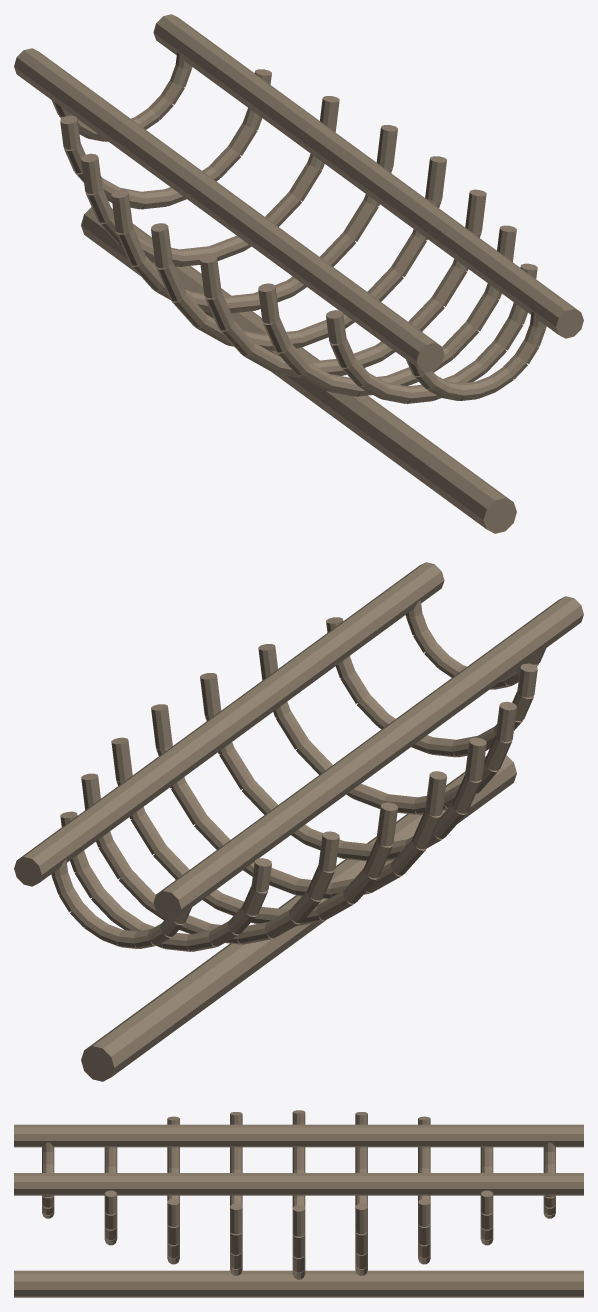
The model's file is a5_hero.glb.
The picture shows the model from 3 angles, top to bottom: view 1: azimuth 30°, elevation 25°; view 2: azimuth 150°, elevation 25°; view 3: azimuth 270°, elevation 25°; orthographic projection. The views are drawn at different scales.
Parts seen in each view (by area): view 1: Body.057; view 2: Body.057; view 3: Body.057.
Part boxes in pixels (bbox=[...]): Body.057: bbox=[14, 14, 583, 533]; Body.057: bbox=[14, 562, 583, 1081]; Body.057: bbox=[14, 1110, 583, 1297].
Bounding box in the file's own units: 2.1 × 1.41 × 5.
